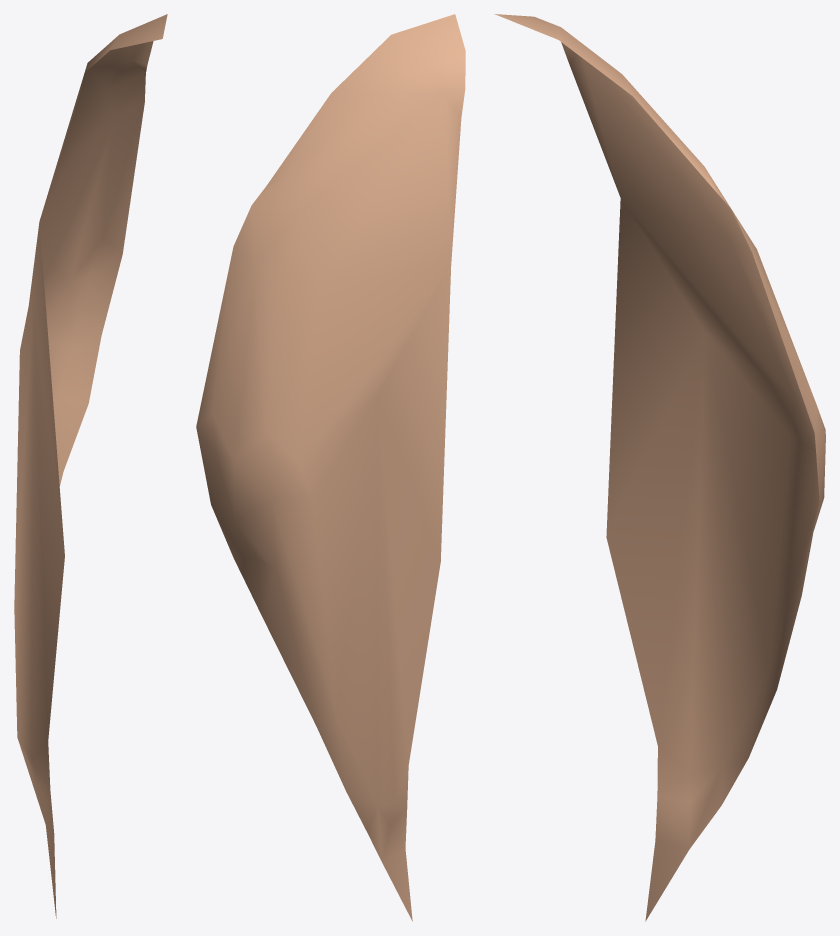
File: scapha-l.glb
3 views of the same model, side by side, from view 1: azimuth 30°, elevation 25°; view 2: azimuth 150°, elevation 25°; view 3: azimuth 270°, elevation 25° (orthographic). The views are drawn at different scales.
Visible parts, largest first — view 1: Scapha.l; view 2: Scapha.l; view 3: Scapha.l.
Boxes of the visible parts, x1,y1,x2,y2 form: Scapha.l: (14, 14, 167, 918); Scapha.l: (196, 14, 465, 921); Scapha.l: (494, 14, 825, 921).
Bounding box in the file's own units: 0.00589 × 0.0289 × 0.00943.
